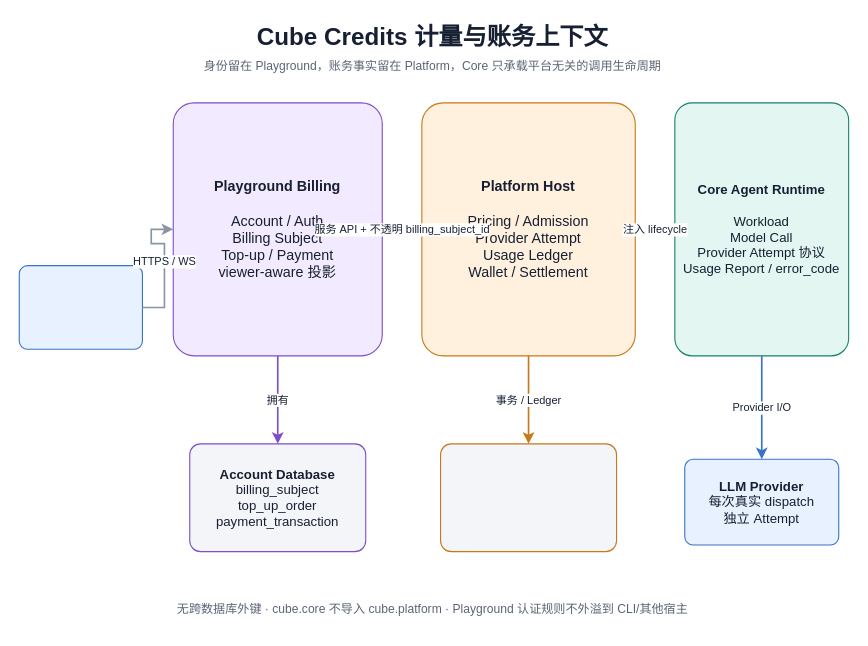
Image size: 868x646. Some labels were removed from this diagram. The centre of each missing label's shape, as x and y in pixels:
Playground Account 已认证调用发起者: the point at 80,307
Runtime Database 7 张 Accounting 表 local / cluster 共享事实: the point at 528,497
